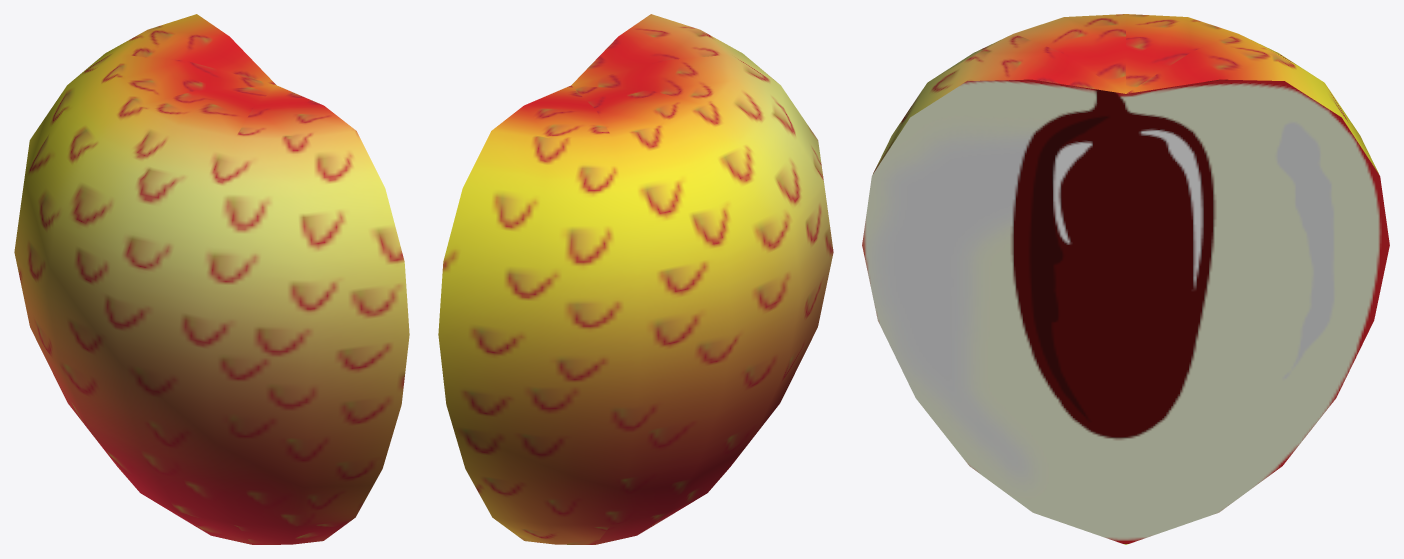
Rendered from lycheeS.FBX.
The picture shows the model from 3 angles, left to right: view 1: azimuth 30°, elevation 25°; view 2: azimuth 150°, elevation 25°; view 3: azimuth 270°, elevation 25°; orthographic projection.
Parts seen in each view (by area): view 1: Lychee001; view 2: Lychee001; view 3: Lychee001.
Boxes of the visible parts, x1,y1,x2,y2 form: Lychee001: (14,14,409,544); Lychee001: (438,14,833,544); Lychee001: (862,14,1389,544).
Size of the model in its own units: 2.32 by 4.54 by 4.64.
